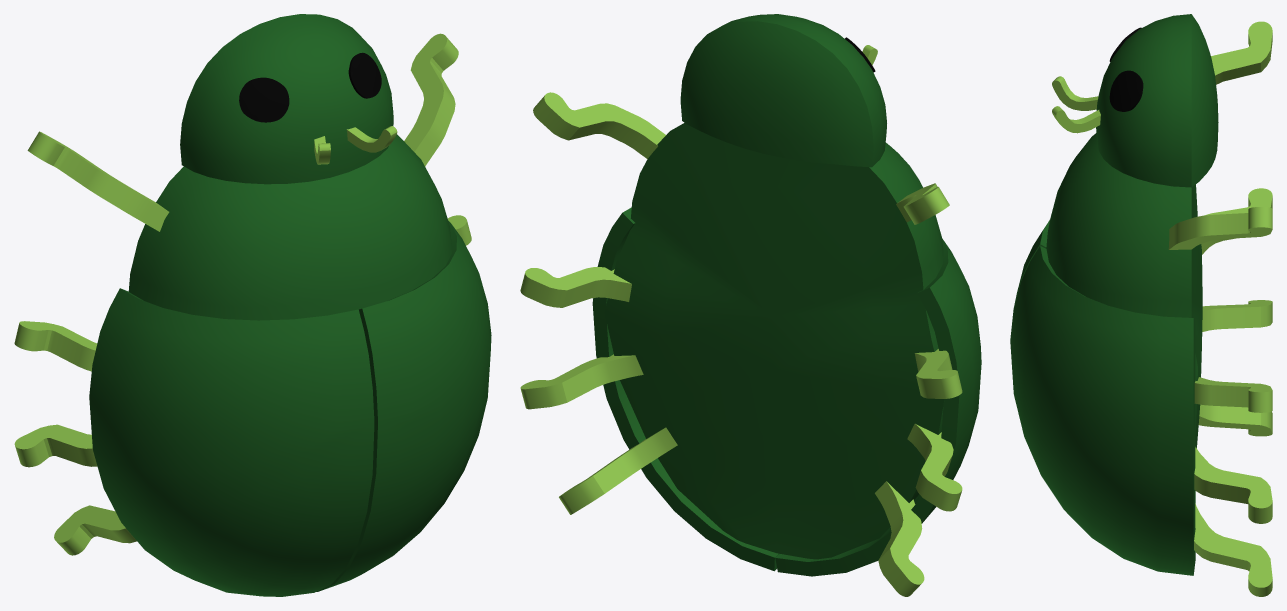
File: beetle.gltf
3 views of the same model, side by side, from view 1: azimuth 30°, elevation 25°; view 2: azimuth 150°, elevation 25°; view 3: azimuth 270°, elevation 25° (orthographic). The views are drawn at different scales.
Visible parts, largest first — view 1: Sphere.384, Cube.138, Cube.139, Cube.141, Circle.1998, Cube.140; view 2: Cube.138, Cube.139, Cube.141, Sphere.384; view 3: Sphere.384, Cube.138, Cube.141, Cube.139, Cube.140, Circle.1998.
Boxes of the visible parts, left/top/right/bottom form: Sphere.384: left=89, top=220, right=491, bottom=596; Cube.138: left=128, top=134, right=451, bottom=320; Cube.139: left=180, top=14, right=393, bottom=184; Cube.141: left=14, top=33, right=471, bottom=555; Circle.1998: left=239, top=52, right=381, bottom=122; Cube.140: left=314, top=126, right=397, bottom=164; Cube.138: left=604, top=122, right=944, bottom=559; Cube.139: left=680, top=14, right=886, bottom=167; Cube.141: left=520, top=92, right=962, bottom=596; Sphere.384: left=592, top=207, right=981, bottom=576; Sphere.384: left=1010, top=220, right=1195, bottom=575; Cube.138: left=1046, top=133, right=1202, bottom=448; Cube.141: left=1168, top=21, right=1272, bottom=596; Cube.139: left=1096, top=14, right=1218, bottom=187; Cube.140: left=1052, top=76, right=1100, bottom=133; Circle.1998: left=1109, top=27, right=1143, bottom=111.
Bounding box in the file's own units: 1.85 × 2.2 × 0.9838.
1 material, 1 textured.
